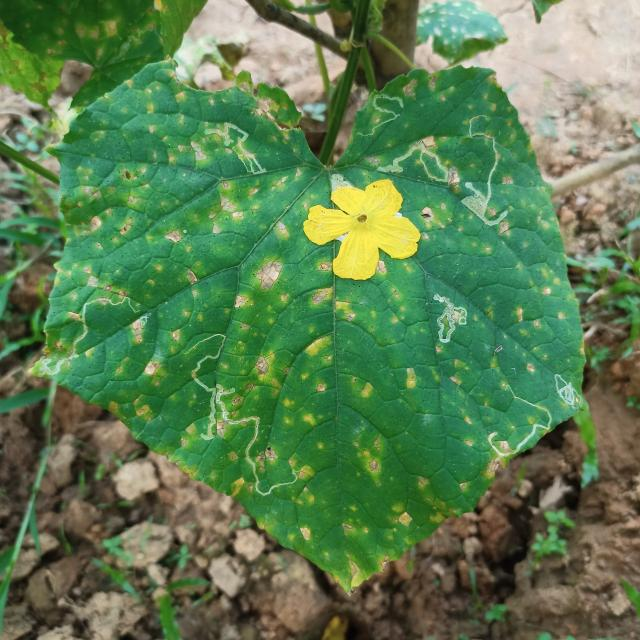disease_cucumber: (59, 89, 565, 564)
